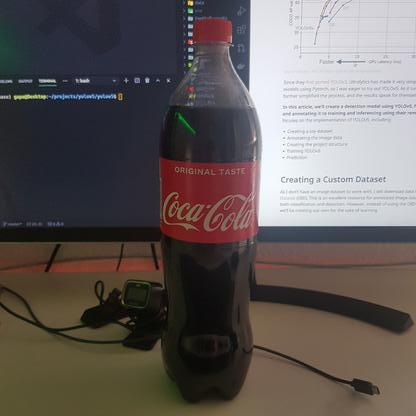coca-cola: (156, 16, 265, 407)
